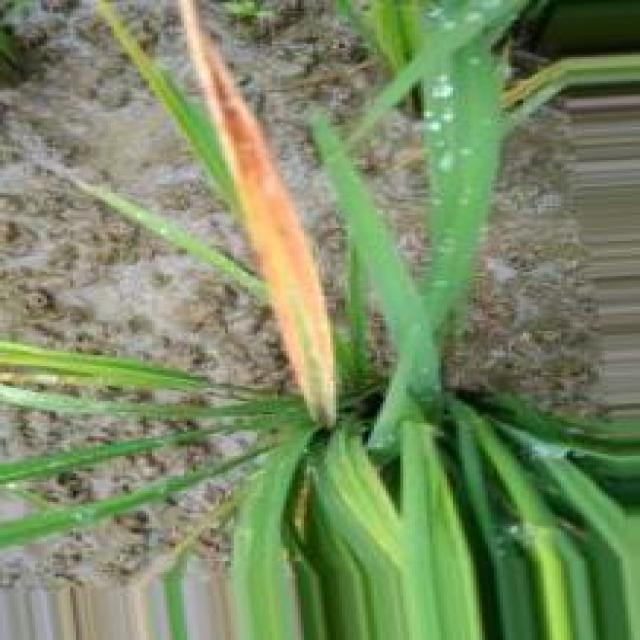Rice Tungro: (179, 0, 333, 426)
